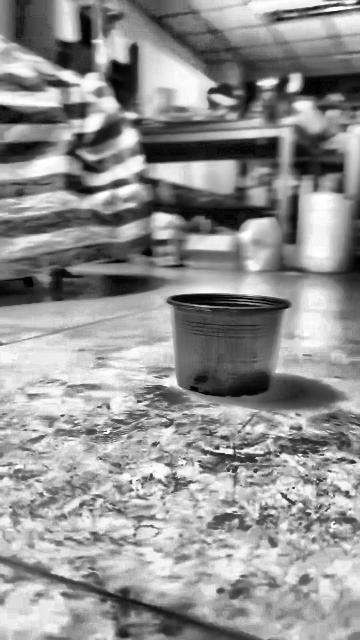pot: (165, 292, 289, 396)
